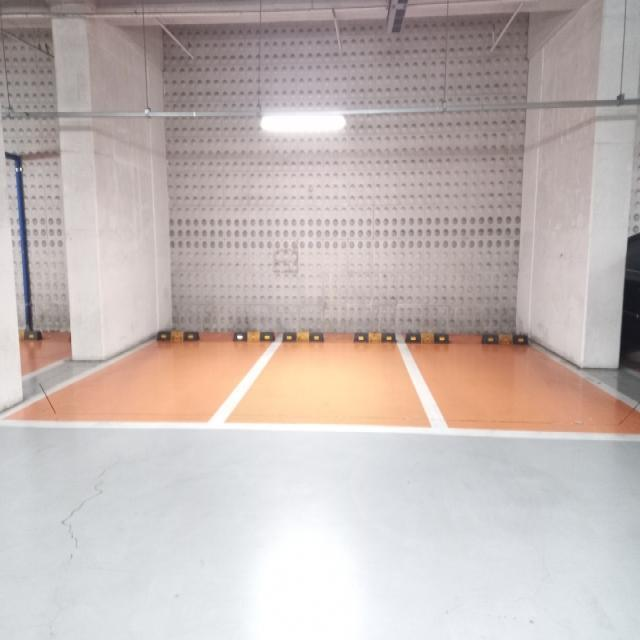empty: (17, 315, 279, 421), (241, 323, 433, 426), (410, 330, 624, 421)
